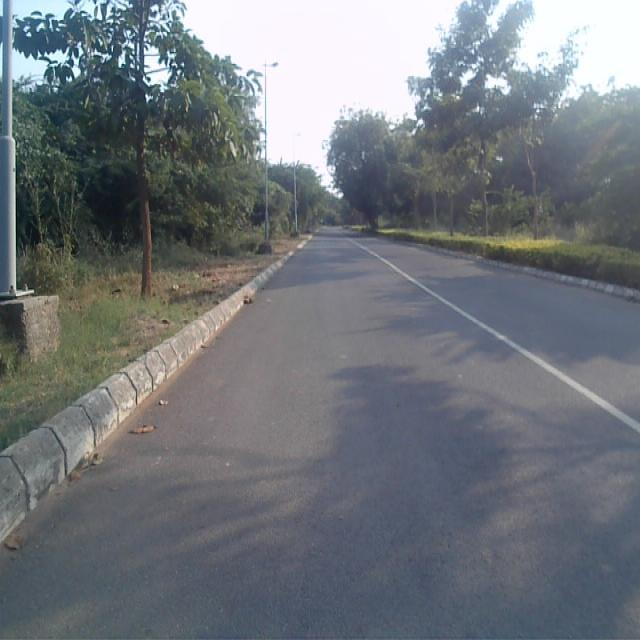lane: (0, 233, 640, 640)
